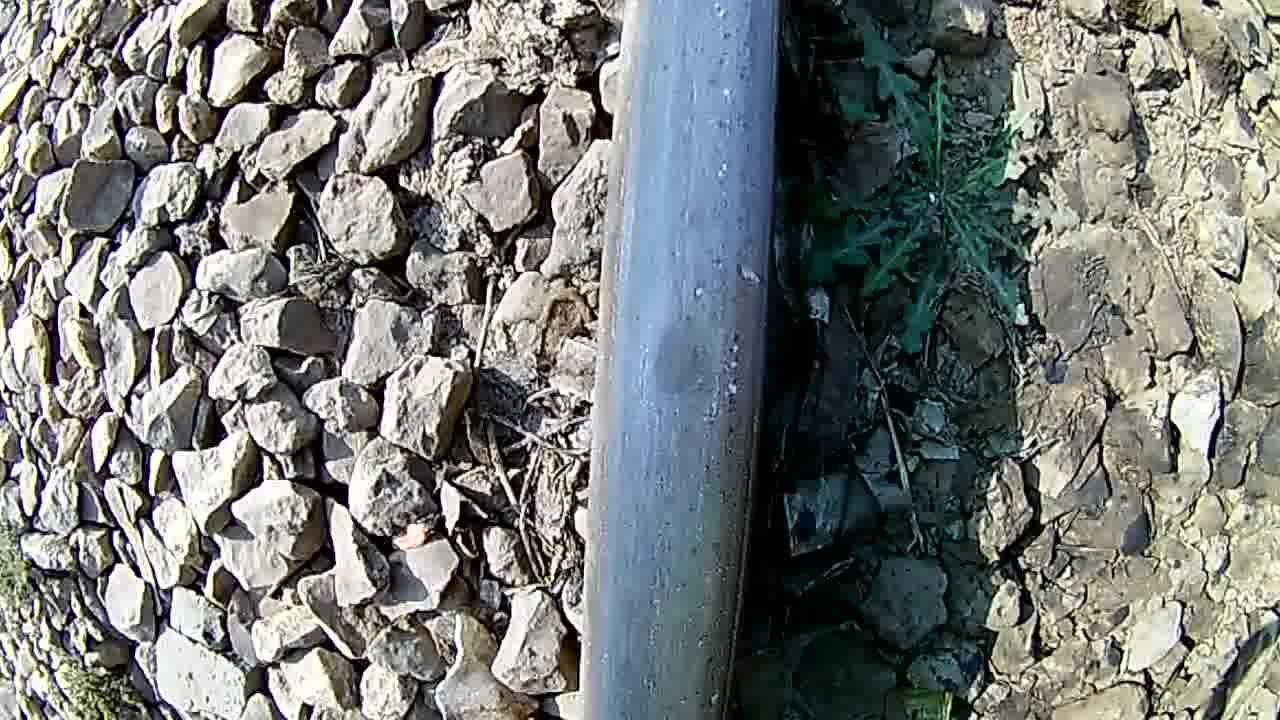crack: (607, 250, 770, 476)
